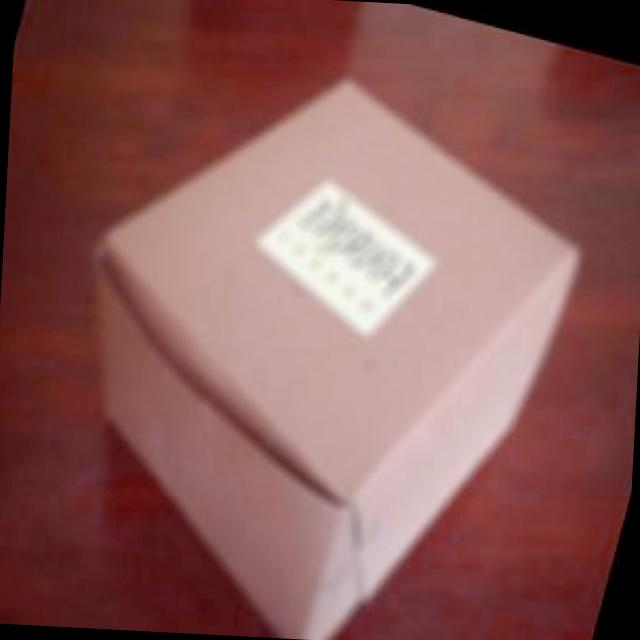box: (0, 23, 632, 640)
